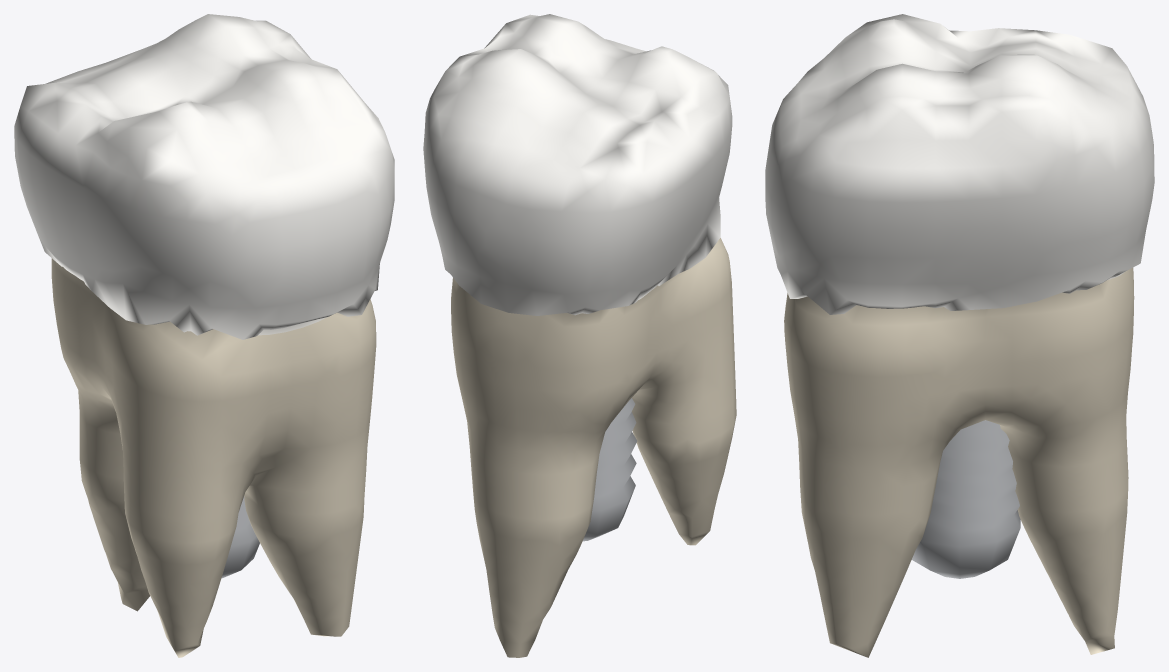
3 renders of one model, left to right at view 1: azimuth 30°, elevation 25°; view 2: azimuth 150°, elevation 25°; view 3: azimuth 270°, elevation 25°, orthographic. The views are drawn at different scales.
Visible parts, largest first — view 1: crown, root, implant; view 2: crown, root, implant; view 3: crown, root, implant.
Part boxes in pixels (<box>): crown: <box>14,14,394,339</box>; root: <box>51,258,376,657</box>; implant: <box>221,496,259,578</box>; crown: <box>423,14,732,315</box>; root: <box>451,238,736,657</box>; implant: <box>583,398,637,541</box>; crown: <box>765,14,1154,314</box>; root: <box>784,267,1134,657</box>; implant: <box>911,420,1020,578</box>.
Bounding box in the file's own units: 9.9 × 20.58 × 11.67.
